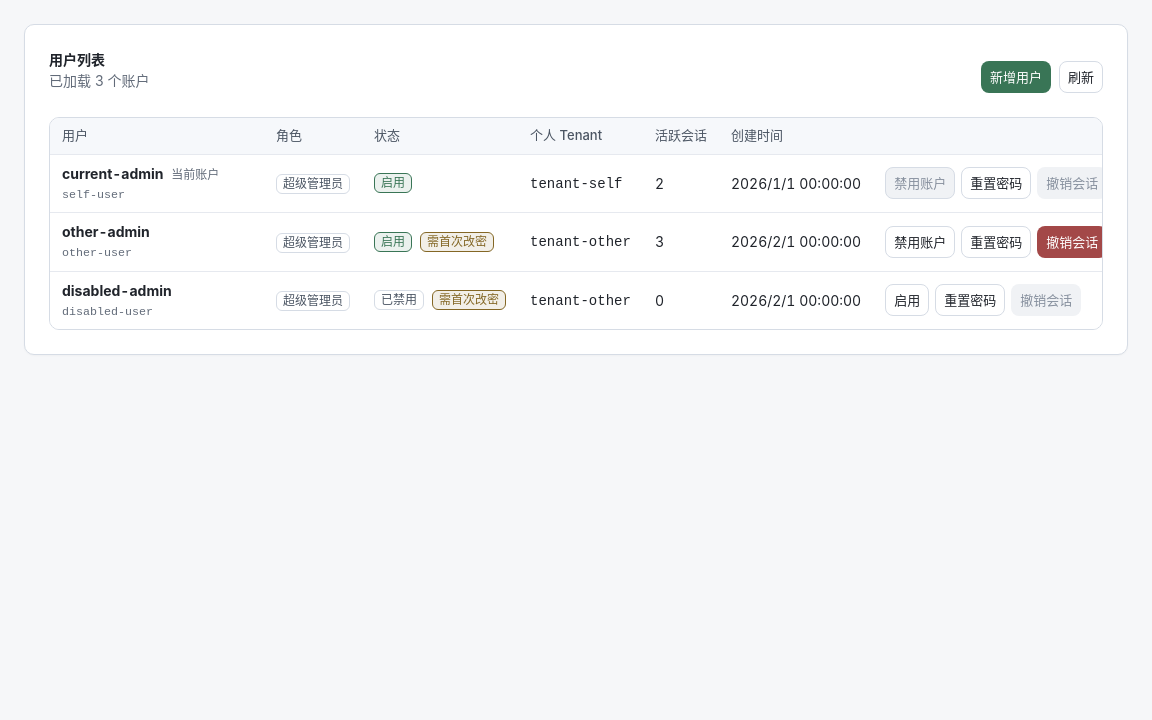
Test: UsersSettingsPage › creates with a login-only payload, shows the shared default password, and manages focus
Click the button "新增用户" at (1016, 77), box left=981, top=61, right=1051, bottom=93
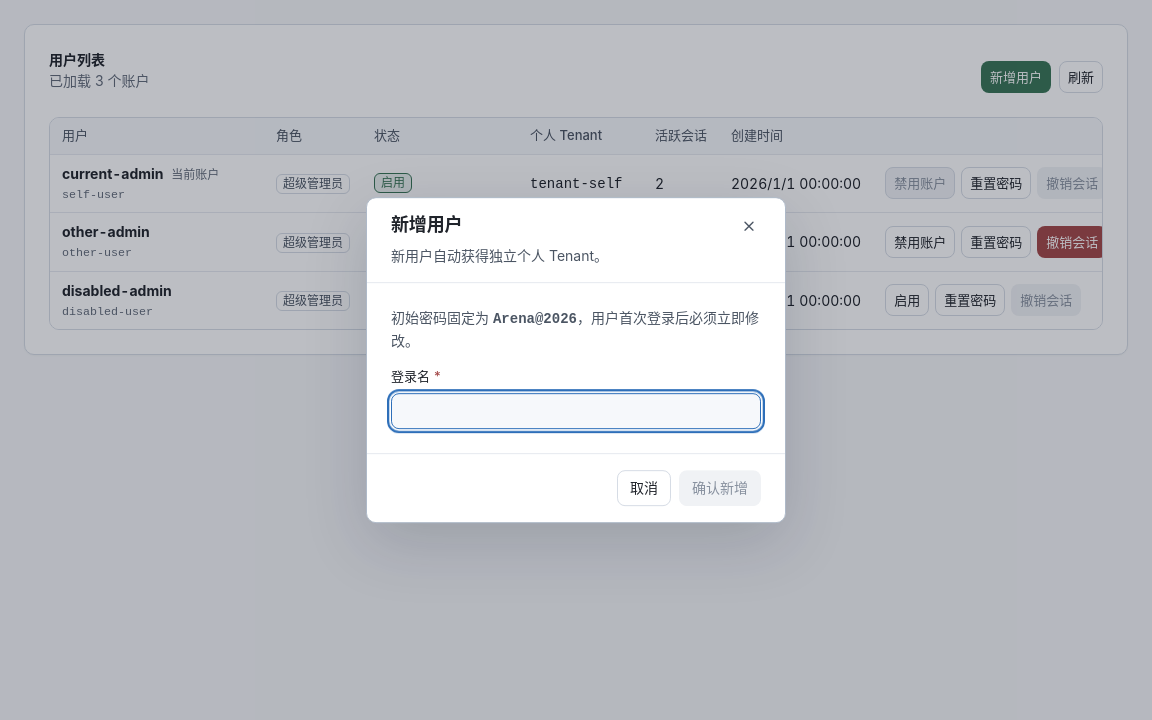
Now the dialog shows "Arena@2026", box left=493, top=311, right=577, bottom=327
Click the button "取消" at (644, 488), box left=617, top=470, right=671, bottom=506
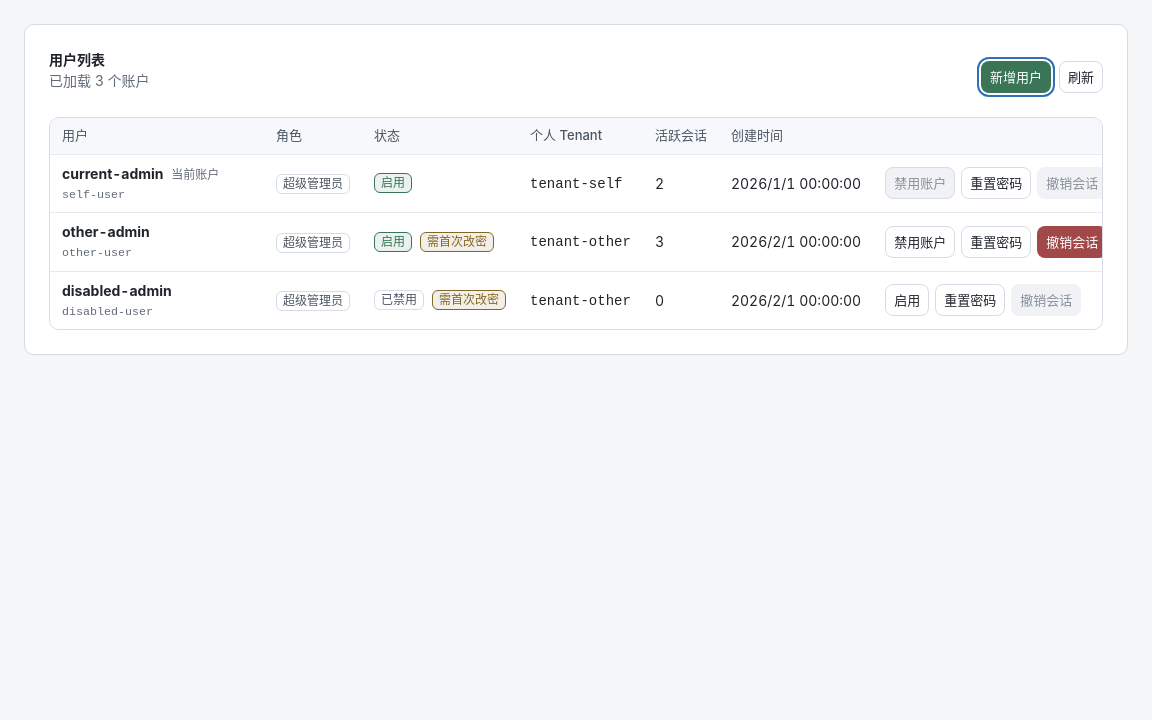
Click the button "新增用户" at (1016, 77), box left=981, top=61, right=1051, bottom=93
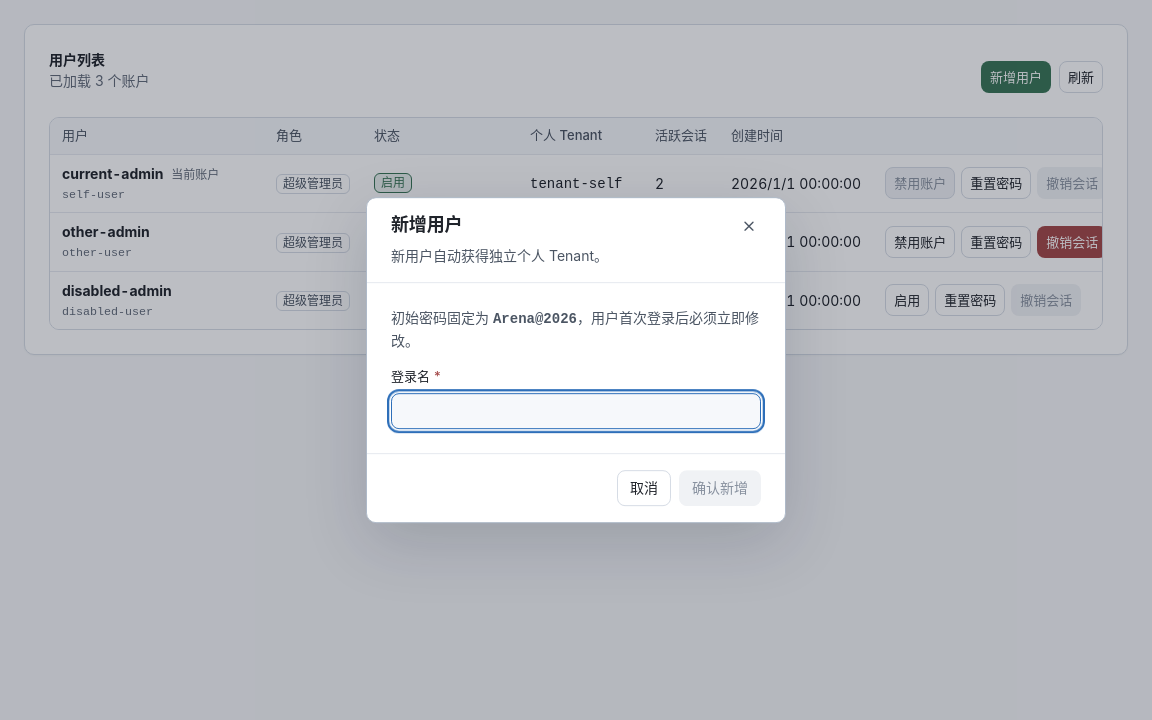
Type "  new-admin  " into the field labelled "登录名*" at (576, 411), box left=391, top=393, right=761, bottom=429
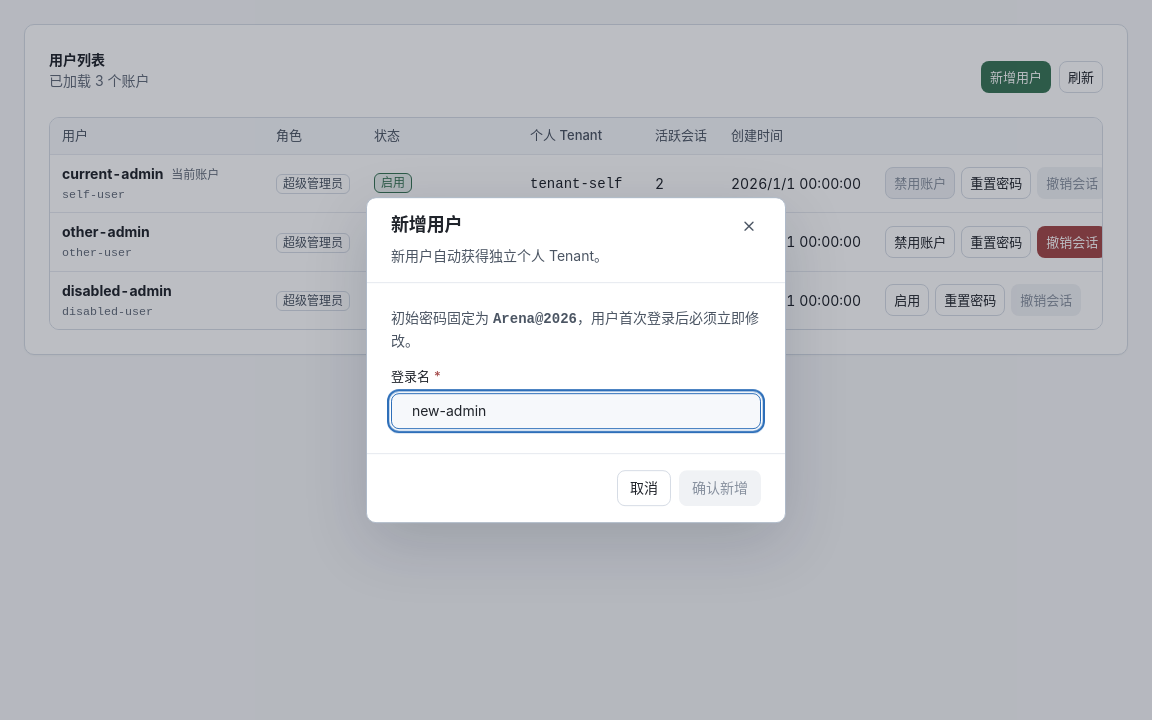
Submit the form with id "create-user-form", box left=391, top=367, right=761, bottom=429
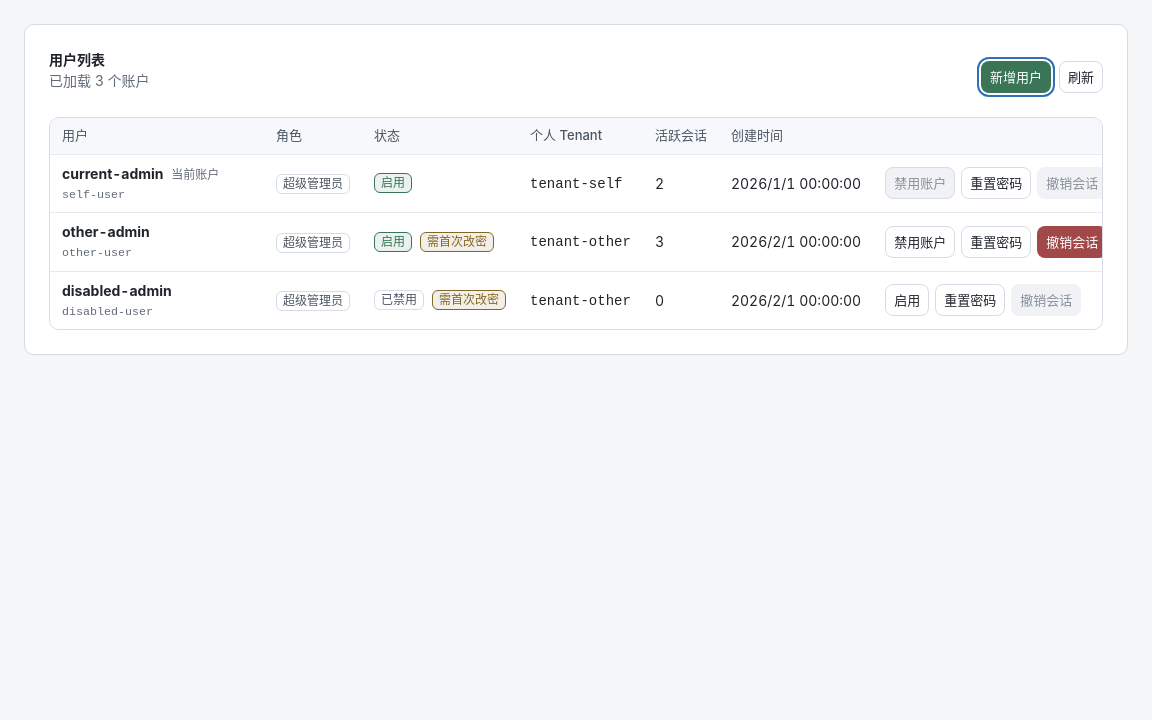
Now the dialog is gone
